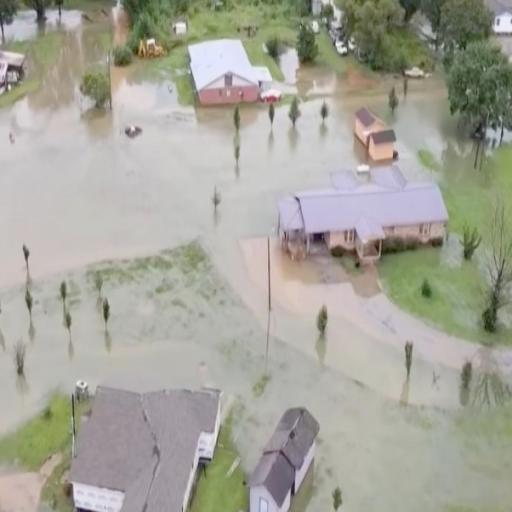flood: (0, 13, 512, 512), (3, 9, 36, 41), (60, 9, 82, 28), (45, 9, 57, 30)
house: (70, 369, 214, 512), (266, 177, 454, 267), (241, 405, 320, 512), (189, 35, 269, 111), (352, 106, 398, 162), (0, 34, 27, 100), (493, 0, 512, 37)
